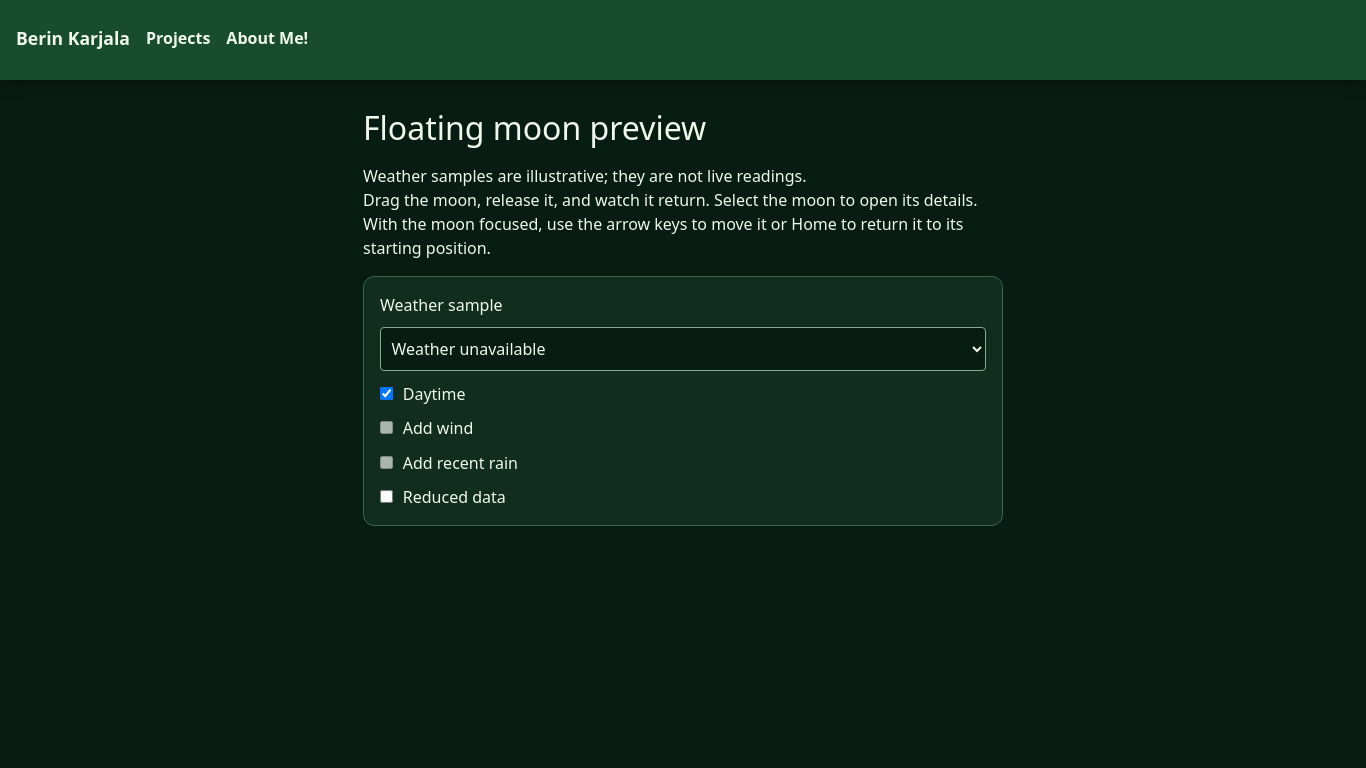
Test case: shows clearly labeled weather samples without requesting location
The width and height of the screenshot is (1366, 768).
Expected: the text "Weather samples are illustrative" is shown, [363,165,806,187]
Select "Fog" in the dropdown labelled "Weather sample" at (683, 349), box [380,327,986,371]
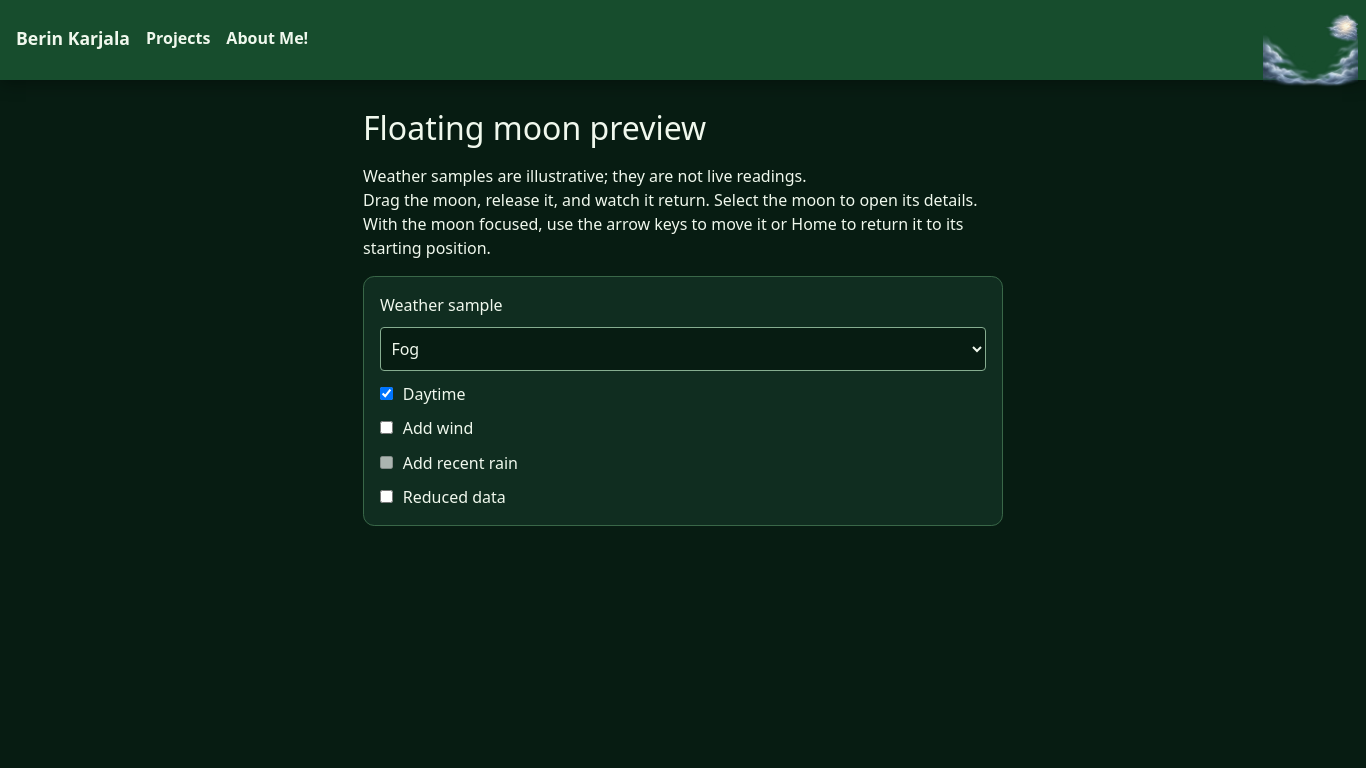
Click the checkbox labelled "Daytime" at (386, 393), box [380,387,393,400]
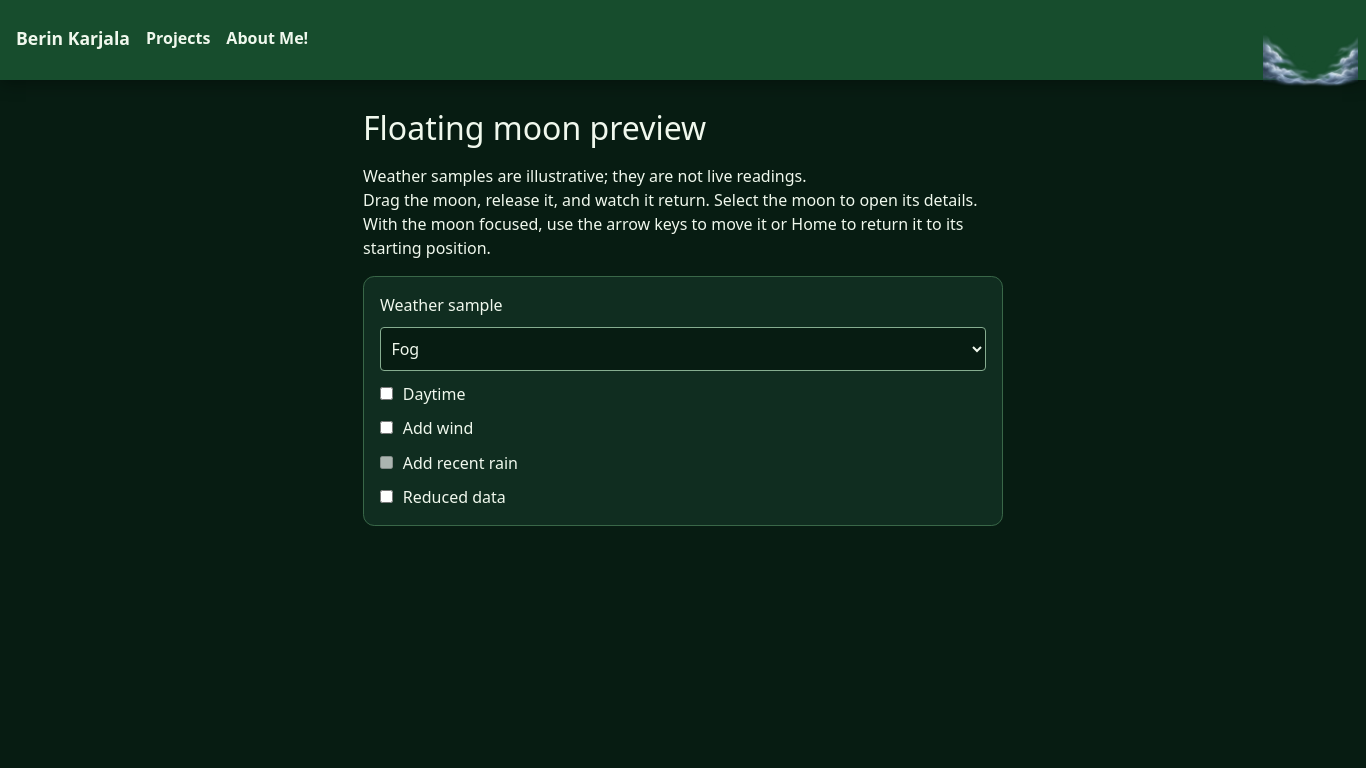
Click the button named "Moon and weather" at (1310, 56), box [1263,8,1358,103]
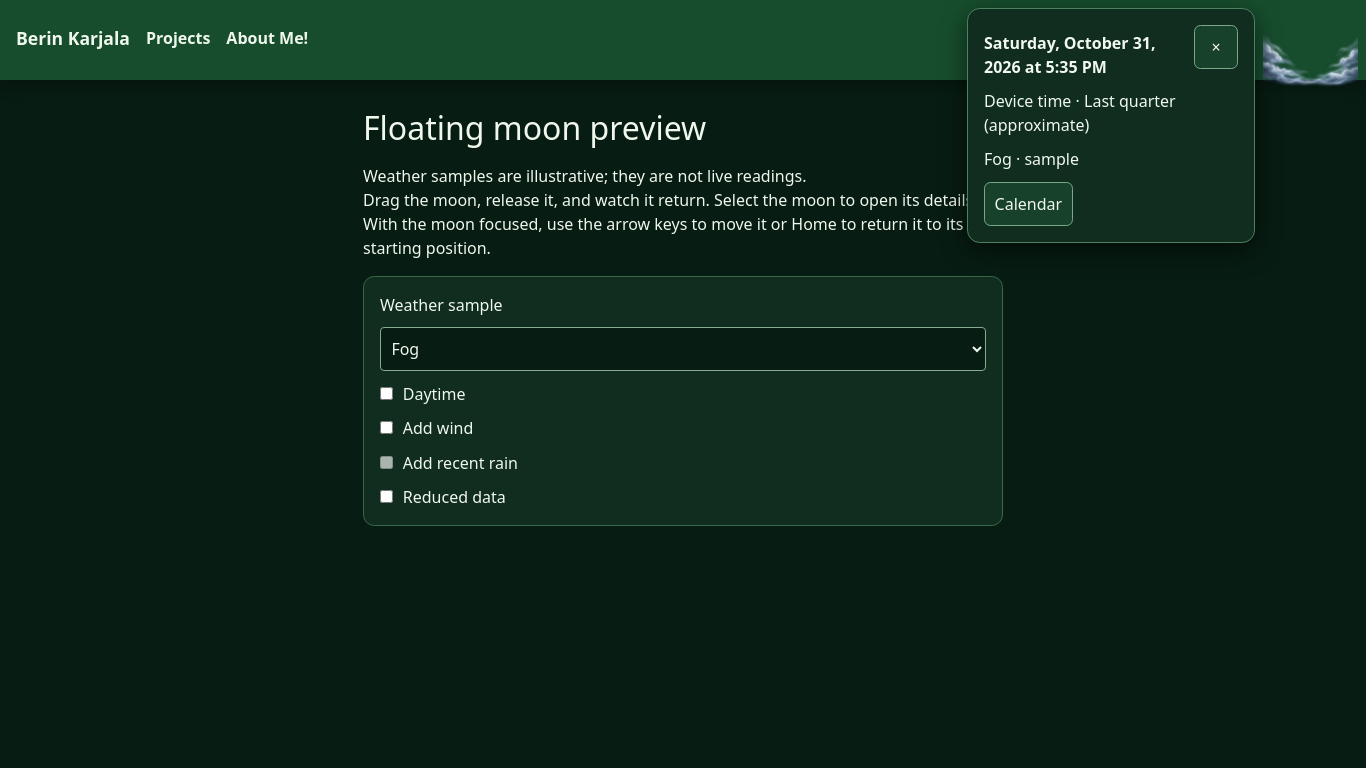
Expected: the text "Fog · sample" is shown, [984,148,1079,170]
